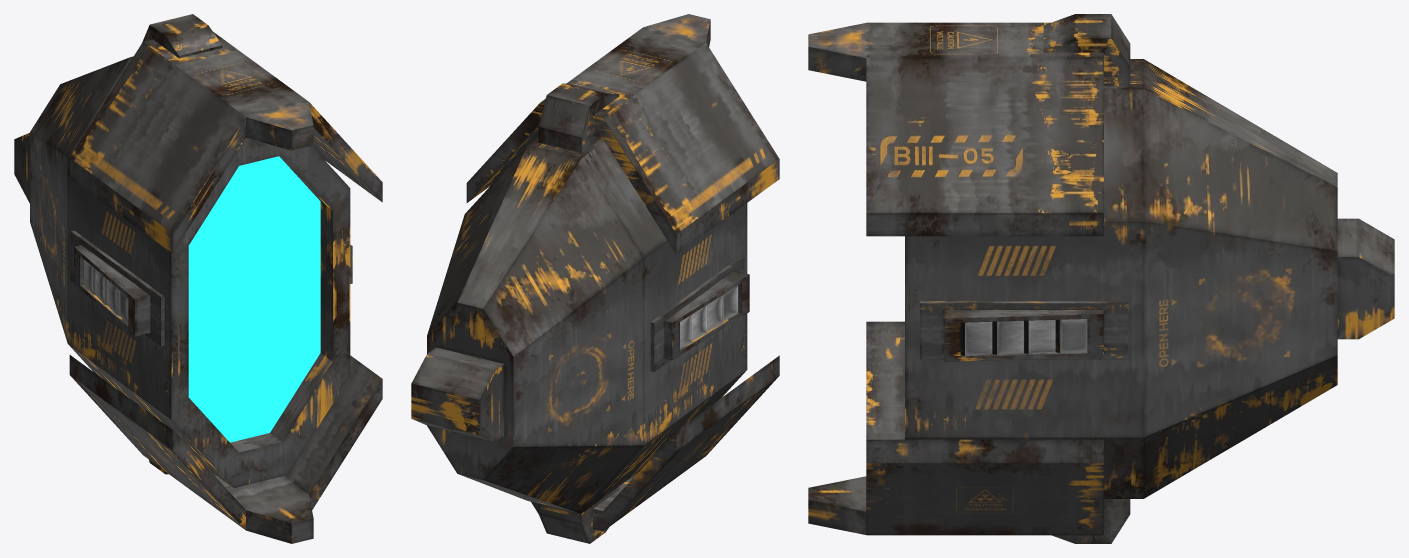
The model's file is thruster.glb.
The picture shows the model from 3 angles, left to right: view 1: azimuth 30°, elevation 25°; view 2: azimuth 150°, elevation 25°; view 3: azimuth 270°, elevation 25°; orthographic projection. The views are drawn at different scales.
Visible parts, largest first — view 1: body; view 2: body; view 3: body.
Part boxes in pixels (left/top/right/bottom): body: left=14, top=14, right=382, bottom=543; body: left=411, top=14, right=779, bottom=543; body: left=808, top=14, right=1394, bottom=543.
Size of the model in its own units: 0.6517 by 1.25 by 1.32.
6 materials, 6 textured.
